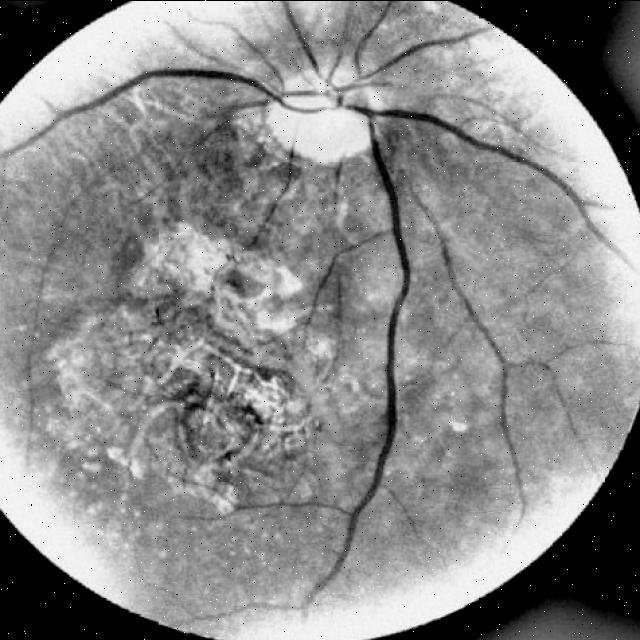Nerves: (280, 0, 629, 601), (0, 67, 329, 157), (465, 296, 517, 462), (241, 34, 285, 82), (518, 465, 526, 514), (343, 4, 354, 32)
Optic Disk: (266, 55, 385, 164)
